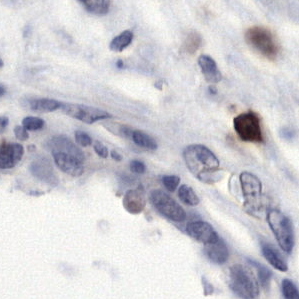Lymphocyte: (231, 107, 270, 144)
